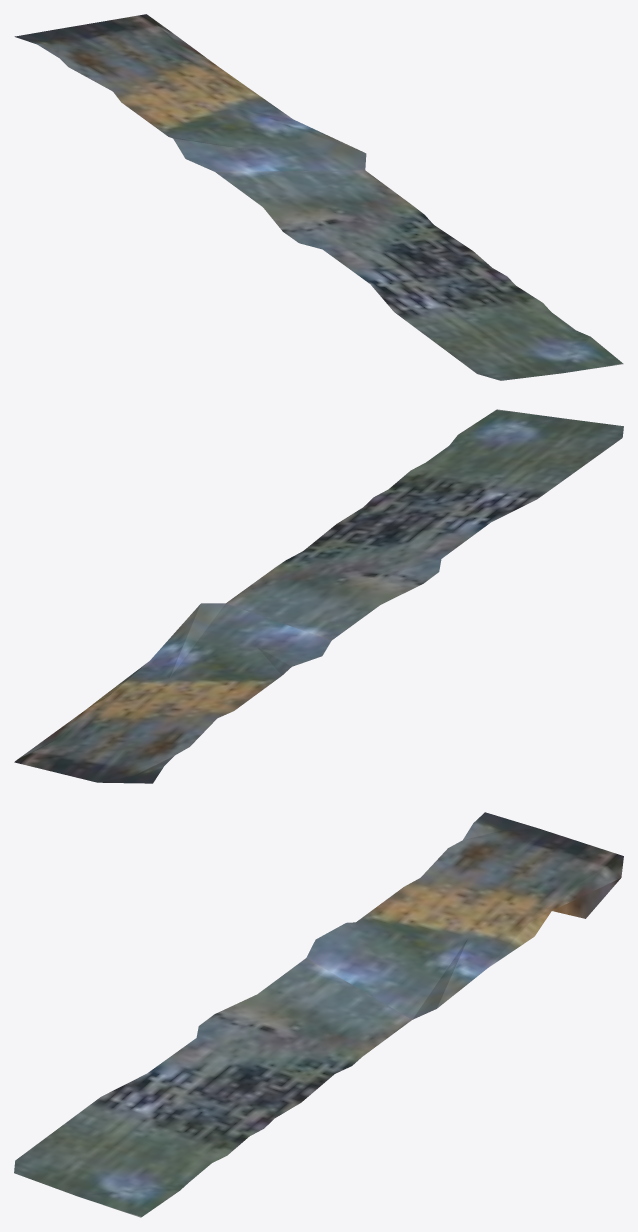
The model's file is meshes_1-dynamic - BLK2GO-3630355-Scan 080 35.obj.
3 views of the same model, one above another, from view 1: azimuth 30°, elevation 25°; view 2: azimuth 150°, elevation 25°; view 3: azimuth 330°, elevation 25° (orthographic). The views are drawn at different scales.
Parts seen in each view (by area): view 1: 1-dynamic_-_BLK2GO-3630355-Scan_080_35_0; view 2: 1-dynamic_-_BLK2GO-3630355-Scan_080_35_0; view 3: 1-dynamic_-_BLK2GO-3630355-Scan_080_35_0.
Part boxes in pixels (box(x1,y1,x2,y2)): 1-dynamic_-_BLK2GO-3630355-Scan_080_35_0: box(14, 14, 623, 380); 1-dynamic_-_BLK2GO-3630355-Scan_080_35_0: box(14, 409, 623, 783); 1-dynamic_-_BLK2GO-3630355-Scan_080_35_0: box(14, 812, 623, 1217).
Bounding box in the file's own units: 0.3718 × 0.0916 × 2.01.
Materials: 1 (1 with a texture image).
